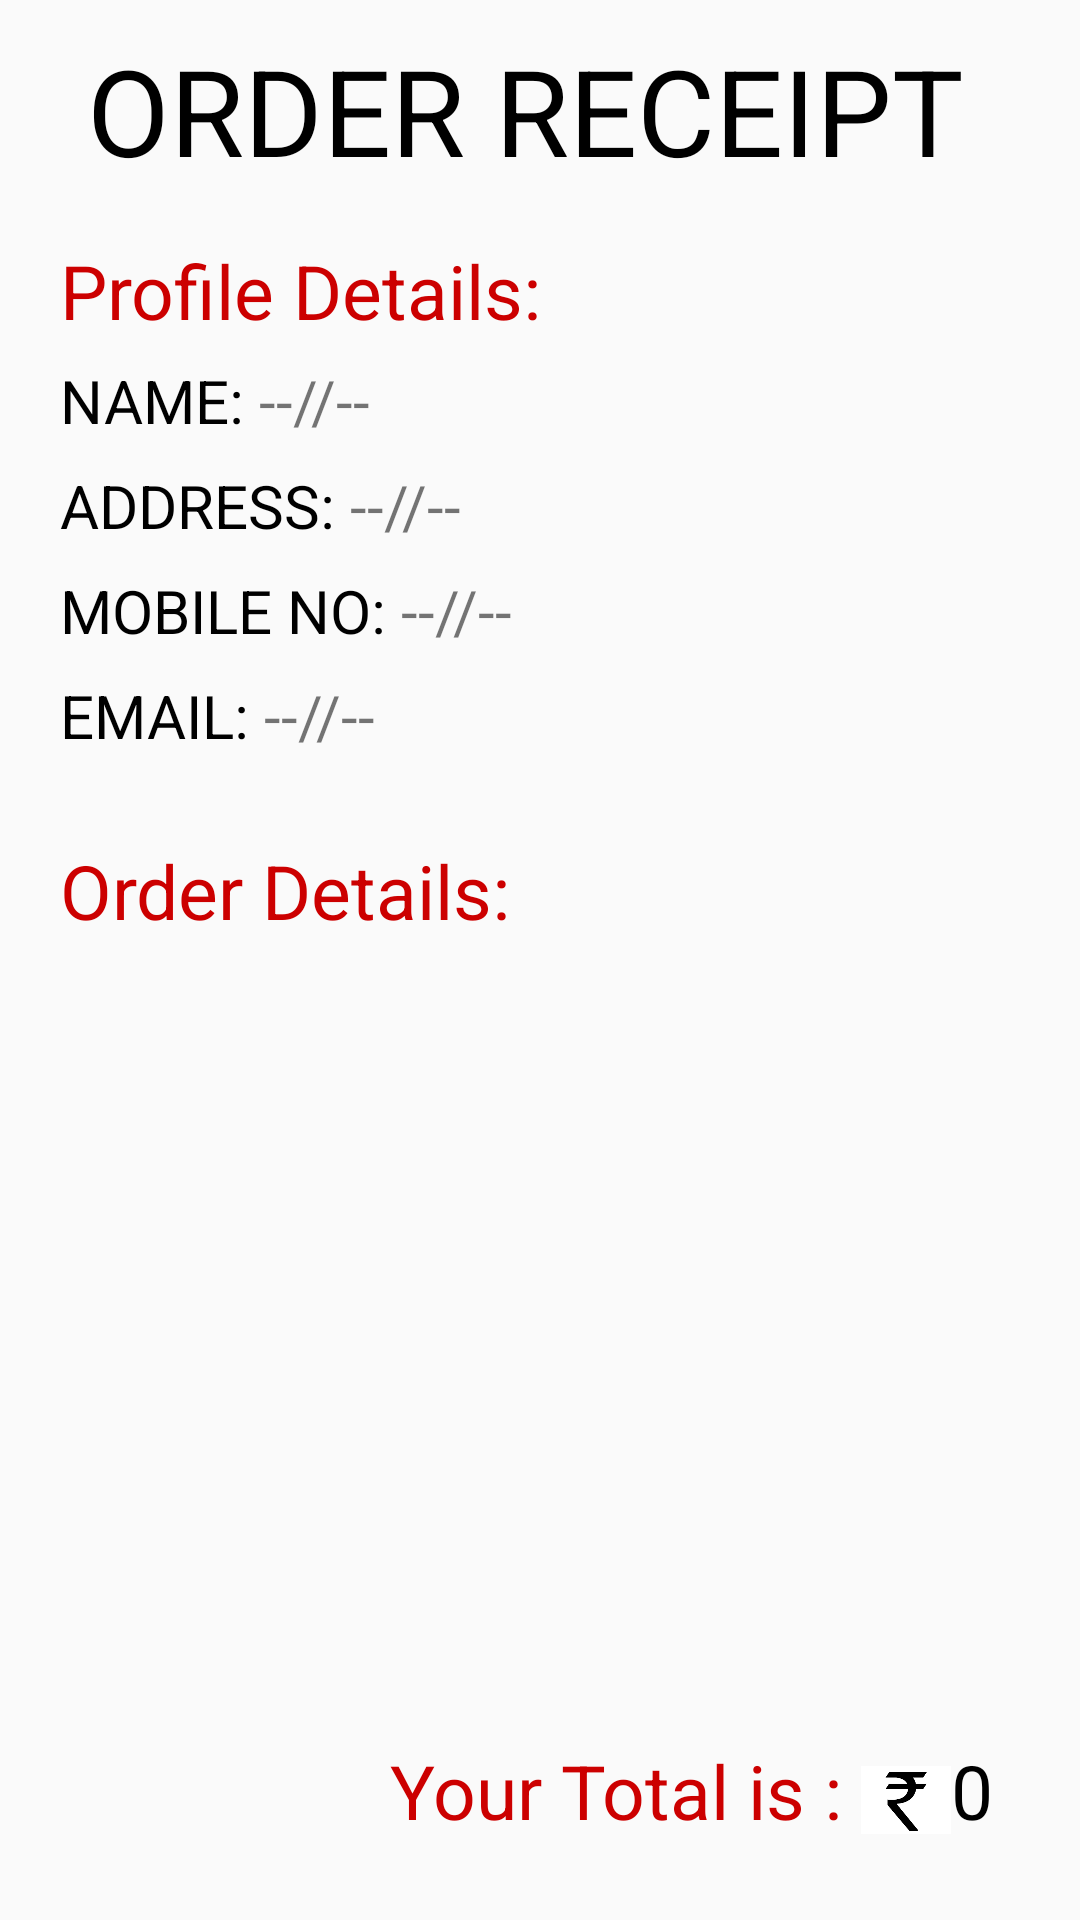

Icons on this 1080w x 1920h Android screen, each with its box as bbox=[x1, y1, x2, y2]:
rup: bbox=[885, 1772, 927, 1831]
